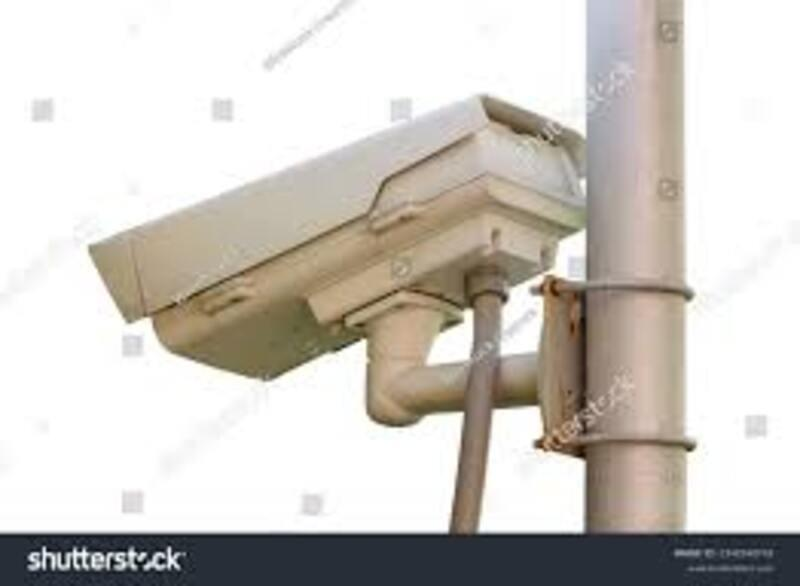box: (55, 241, 570, 467)
